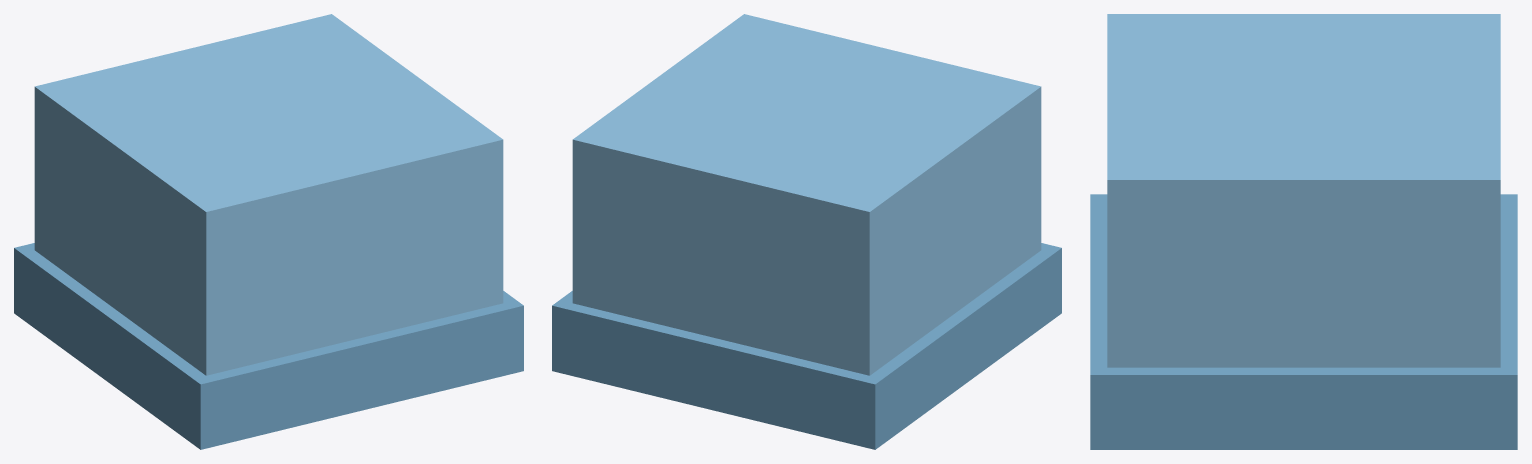
File: cirurgiao_manga_inf.glb
The picture shows the model from 3 angles, left to right: view 1: azimuth 30°, elevation 25°; view 2: azimuth 150°, elevation 25°; view 3: azimuth 270°, elevation 25°; orthographic projection. The views are drawn at different scales.
Visible parts, largest first — view 1: cirurgiao_manga_inf; view 2: cirurgiao_manga_inf; view 3: cirurgiao_manga_inf.
Part boxes in pixels (x1,y1,x2,y2): cirurgiao_manga_inf: [14, 14, 523, 449]; cirurgiao_manga_inf: [552, 14, 1061, 449]; cirurgiao_manga_inf: [1090, 14, 1517, 449].
Bounding box in the file's own units: 0.31 × 0.21 × 0.31.
